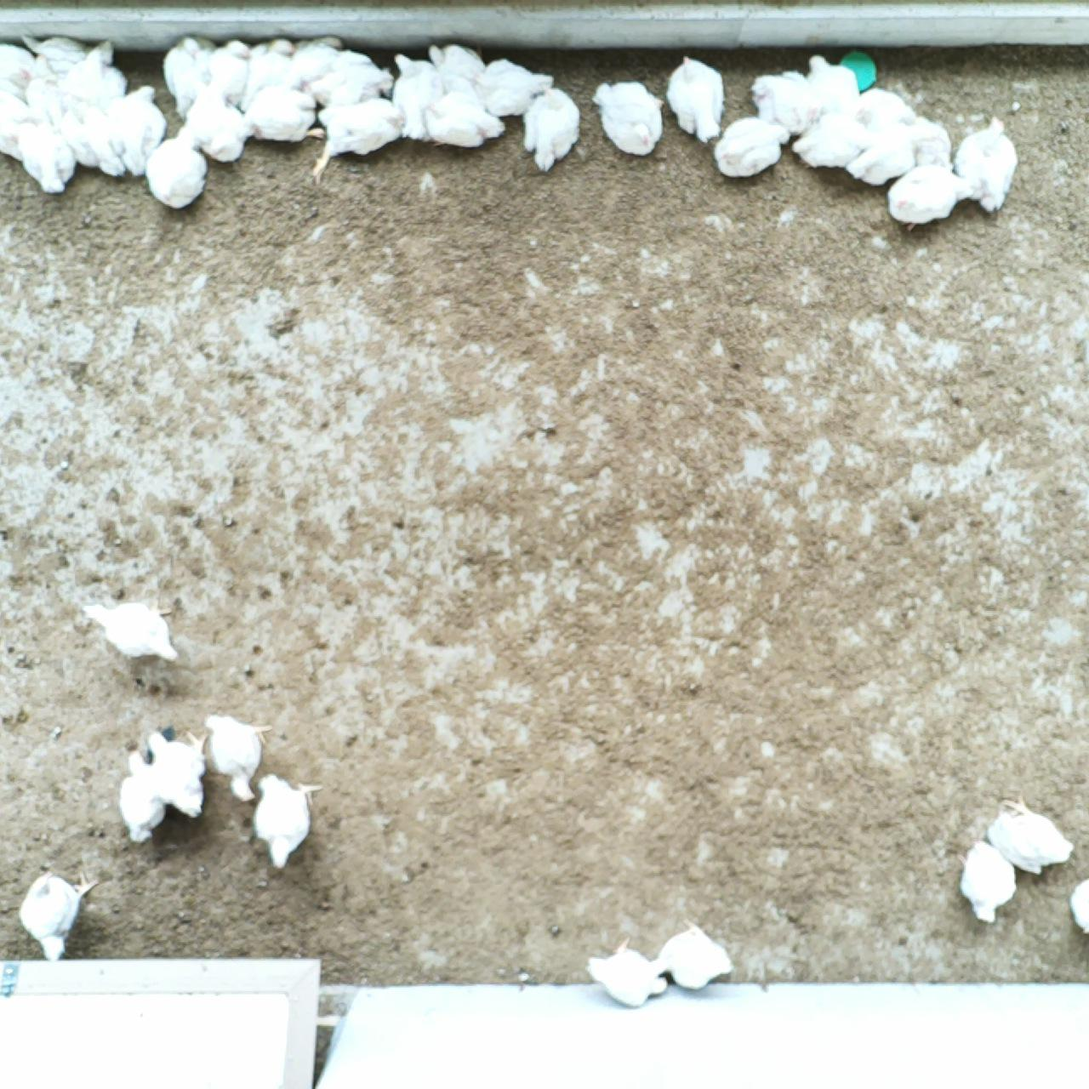chicken: (306, 98, 409, 188), (17, 865, 101, 963), (986, 792, 1077, 877), (79, 595, 183, 666), (250, 770, 325, 868), (952, 114, 1021, 216), (203, 710, 276, 806), (885, 161, 977, 235), (584, 934, 671, 1011), (651, 917, 736, 993), (591, 76, 665, 162), (57, 91, 128, 179), (146, 724, 211, 820), (954, 834, 1019, 929), (663, 53, 728, 148), (242, 82, 330, 149), (191, 75, 255, 167), (143, 126, 211, 212), (107, 84, 168, 177), (470, 56, 556, 121), (521, 83, 584, 171), (420, 91, 508, 154), (17, 104, 78, 194), (116, 747, 171, 845), (304, 50, 395, 109), (160, 31, 218, 123), (745, 67, 822, 135), (714, 117, 793, 182), (237, 38, 306, 109), (791, 110, 868, 173), (391, 48, 441, 145), (67, 38, 129, 110), (846, 130, 913, 190), (802, 51, 862, 116), (206, 36, 255, 108), (427, 41, 485, 100), (20, 53, 71, 119), (19, 31, 94, 74), (858, 85, 919, 133), (291, 38, 343, 89), (910, 112, 955, 169), (0, 43, 41, 103), (0, 87, 31, 162), (1066, 873, 1089, 938)
